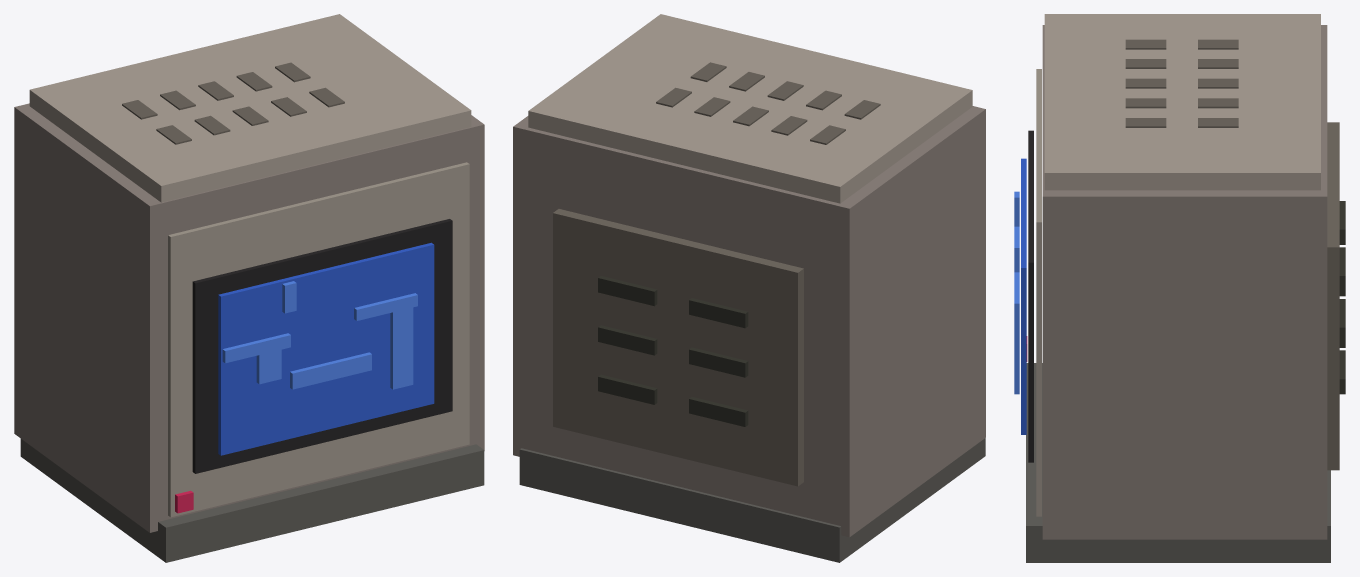
The model's file is CMU3DBlueSignalCRTTV.glb.
3 views of the same model, side by side, from view 1: azimuth 30°, elevation 25°; view 2: azimuth 150°, elevation 25°; view 3: azimuth 270°, elevation 25° (orthographic). The views are drawn at different scales.
Parts seen in each view (by area): view 1: television outer shell, television upper cap, television face bezel, blue TV display, CRT television base, TV inner screen recess, blue TV signal blocks (×5); view 2: television outer shell, rear TV service hatch, television upper cap, CRT television base, rear TV ventilation (×6); view 3: television outer shell, television upper cap, CRT television base, rear TV service hatch, TV top air vent (×8), television face bezel, TV inner screen recess, blue TV display, blue TV signal blocks.
Boxes of the visible parts, x1=… form: television outer shell: x1=14, y1=103, x2=484, y2=532; television upper cap: x1=29, y1=14, x2=471, y2=202; television face bezel: x1=168, y1=162, x2=469, y2=517; blue TV display: x1=218, y1=242, x2=434, y2=455; CRT television base: x1=20, y1=439, x2=484, y2=562; TV inner screen recess: x1=192, y1=219, x2=452, y2=473; blue TV signal blocks (×5): x1=222, y1=293, x2=417, y2=389; television outer shell: x1=513, y1=106, x2=985, y2=537; rear TV service hatch: x1=553, y1=209, x2=803, y2=486; television upper cap: x1=528, y1=14, x2=972, y2=203; CRT television base: x1=519, y1=438, x2=985, y2=562; rear TV ventilation (×6): x1=598, y1=276, x2=748, y2=426; television outer shell: x1=1042, y1=25, x2=1327, y2=539; television upper cap: x1=1044, y1=14, x2=1320, y2=190; CRT television base: x1=1026, y1=363, x2=1330, y2=562; rear TV service hatch: x1=1327, y1=122, x2=1339, y2=470; TV top air vent (×8): x1=1125, y1=39, x2=1238, y2=127; television face bezel: x1=1036, y1=69, x2=1041, y2=516; TV inner screen recess: x1=1028, y1=130, x2=1033, y2=462; blue TV display: x1=1021, y1=158, x2=1026, y2=434; blue TV signal blocks: x1=1014, y1=315, x2=1019, y2=394.
Bounding box in the file's own units: 0.656 × 0.695 × 0.536.
